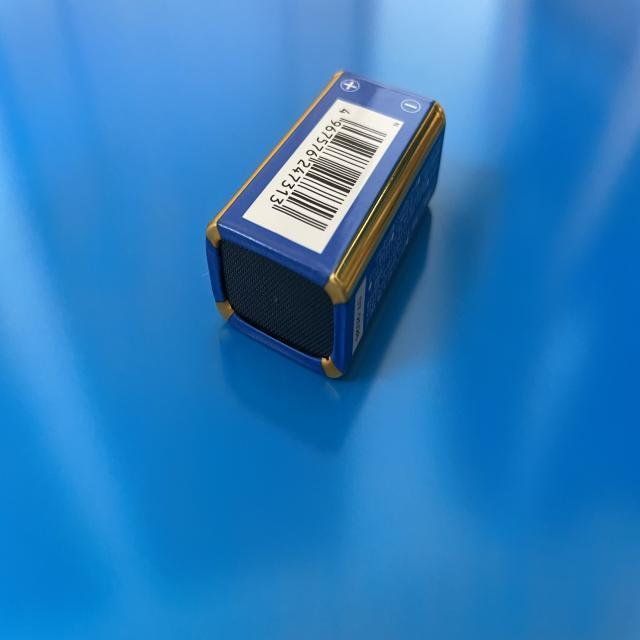9V: (207, 69, 446, 381)
